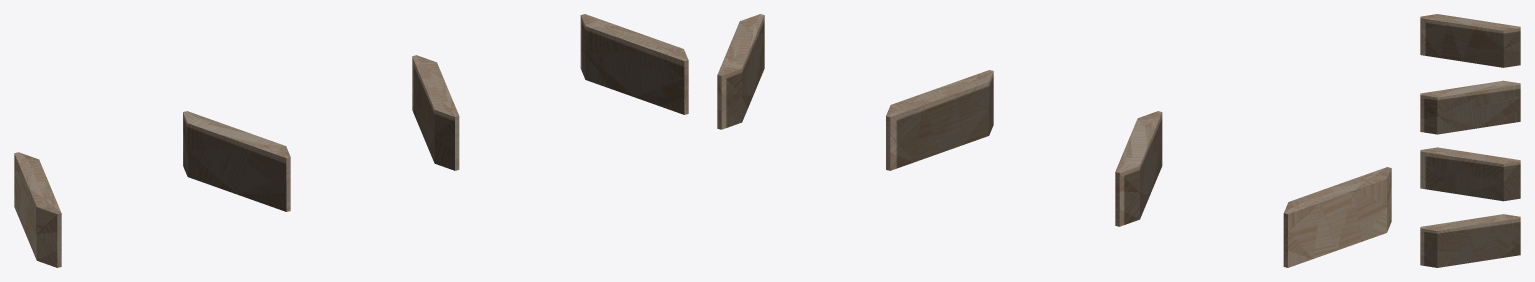
The picture shows the model from 3 angles, left to right: view 1: azimuth 30°, elevation 25°; view 2: azimuth 150°, elevation 25°; view 3: azimuth 270°, elevation 25°; orthographic projection. The views are drawn at different scales.
Visible parts, largest first — view 1: p4; view 2: p4; view 3: p4.
Part boxes in pixels (<box>): p4: <box>14,14,688,267</box>; p4: <box>717,14,1391,267</box>; p4: <box>1420,14,1520,267</box>.
Bounding box in the file's own units: 1196 × 95 × 234.
1 material, 1 textured.
